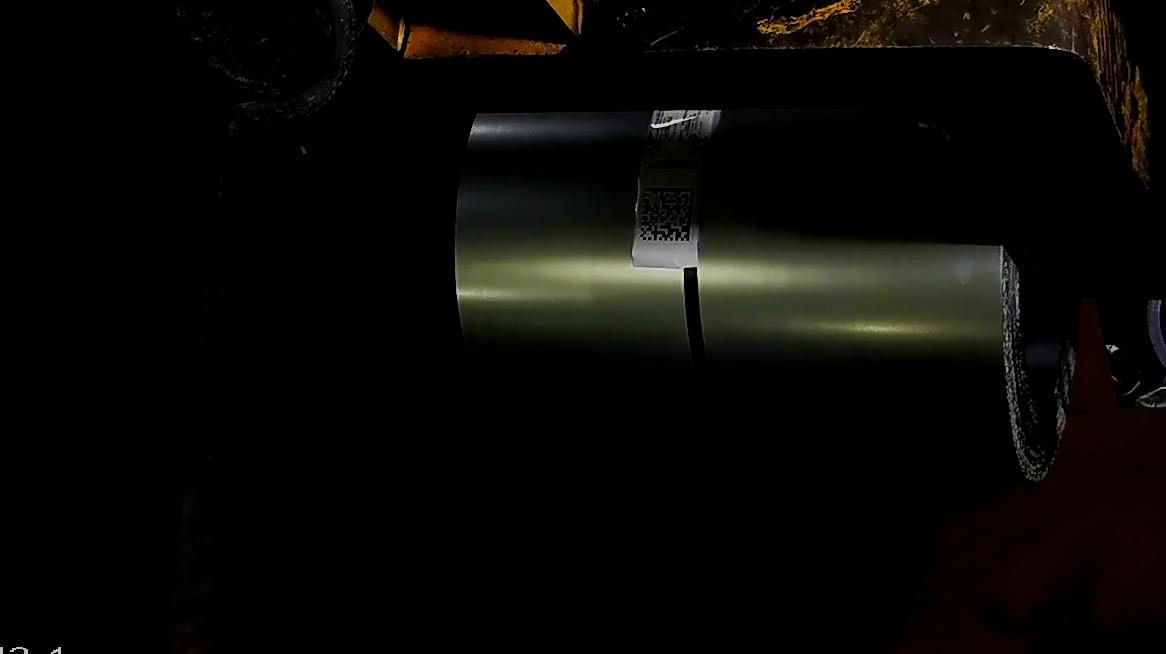data matrix: (636, 185, 698, 246)
